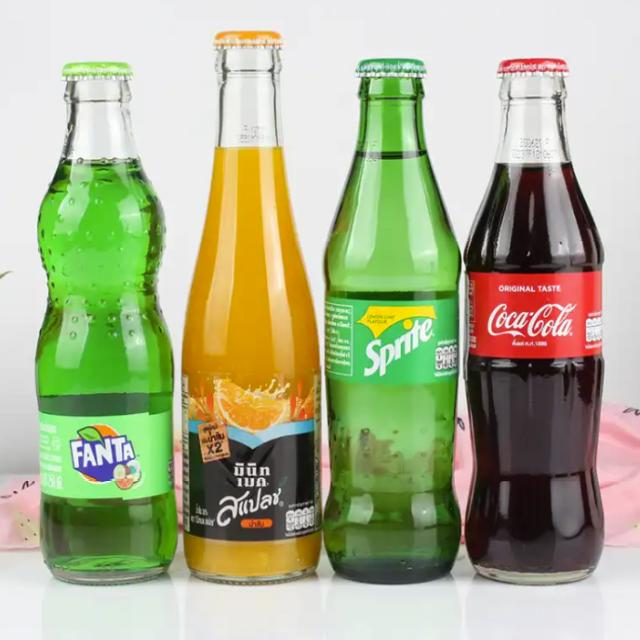bottle: (179, 29, 323, 588), (465, 56, 611, 588), (322, 55, 469, 581), (35, 59, 176, 587)
